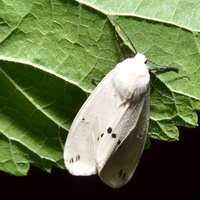insect: (64, 53, 149, 187)
